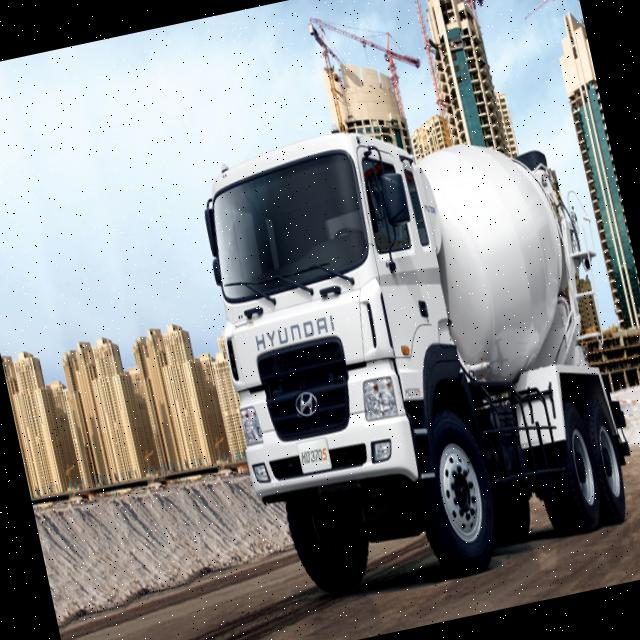Mixer Truck: (184, 84, 640, 609)
